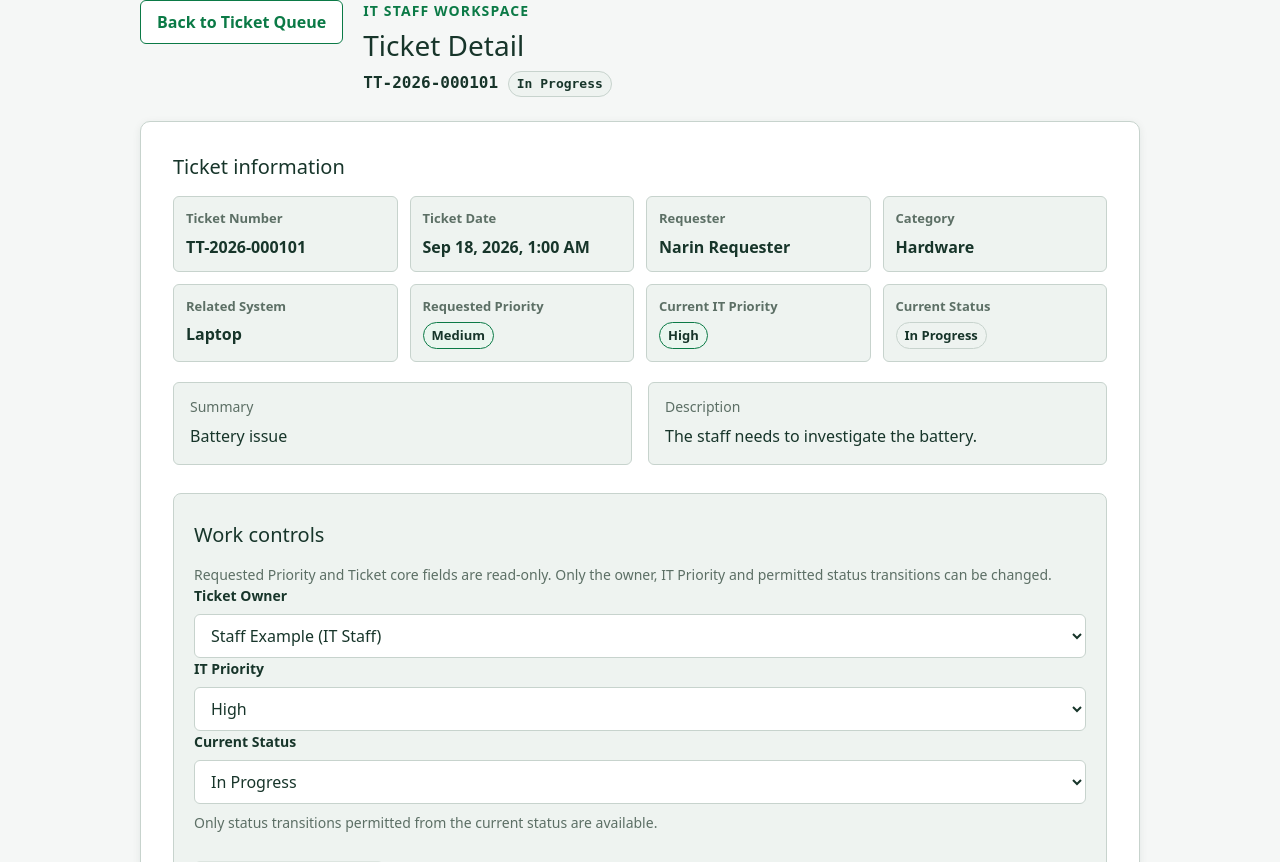
Test: IT Staff Ticket Detail (UI-04) › cancels a formal status dialog without mutating the Ticket
Check: the heading "Ticket Detail" is shown, box [363, 26, 524, 64]
Select "Resolved" in the dropdown labelled "Current Status" at [640, 782], box [194, 760, 1086, 804]
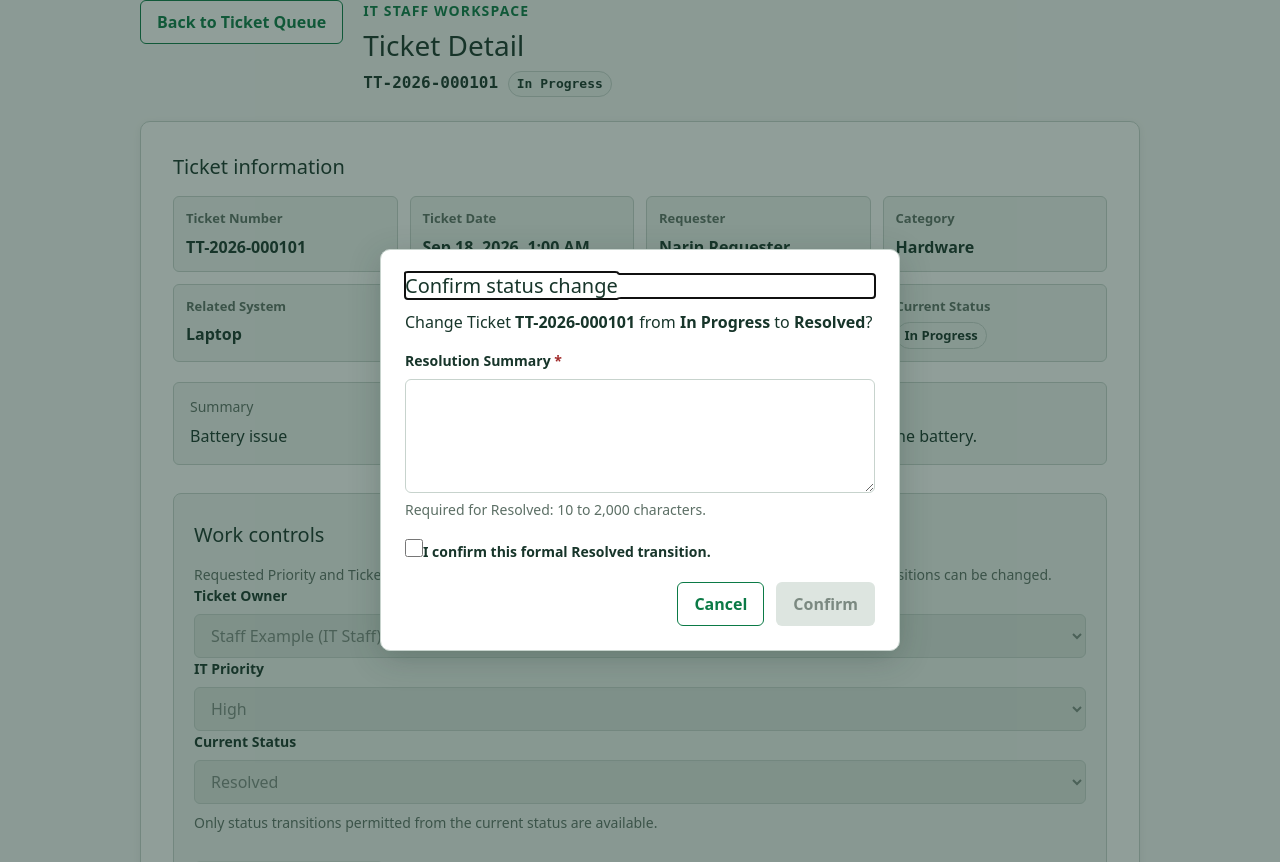
Check: the dialog "Confirm status change" is shown, box [380, 249, 900, 651]
Type "A draft that must not be submitted." into the text box labelled "Resolution Summary *" at [640, 436], box [405, 379, 875, 493]
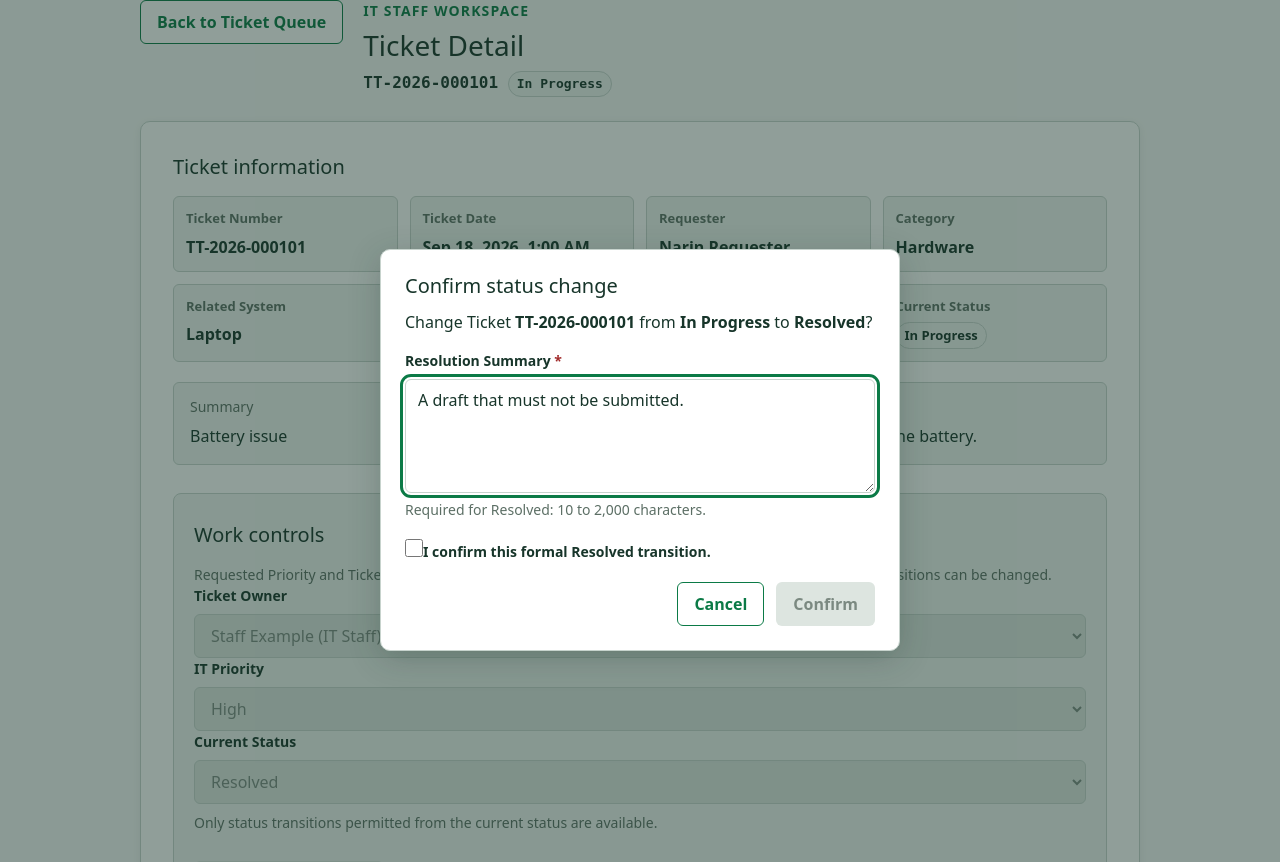
Click the button "Cancel" at [721, 604], box [677, 582, 764, 626]
(page scrolled)
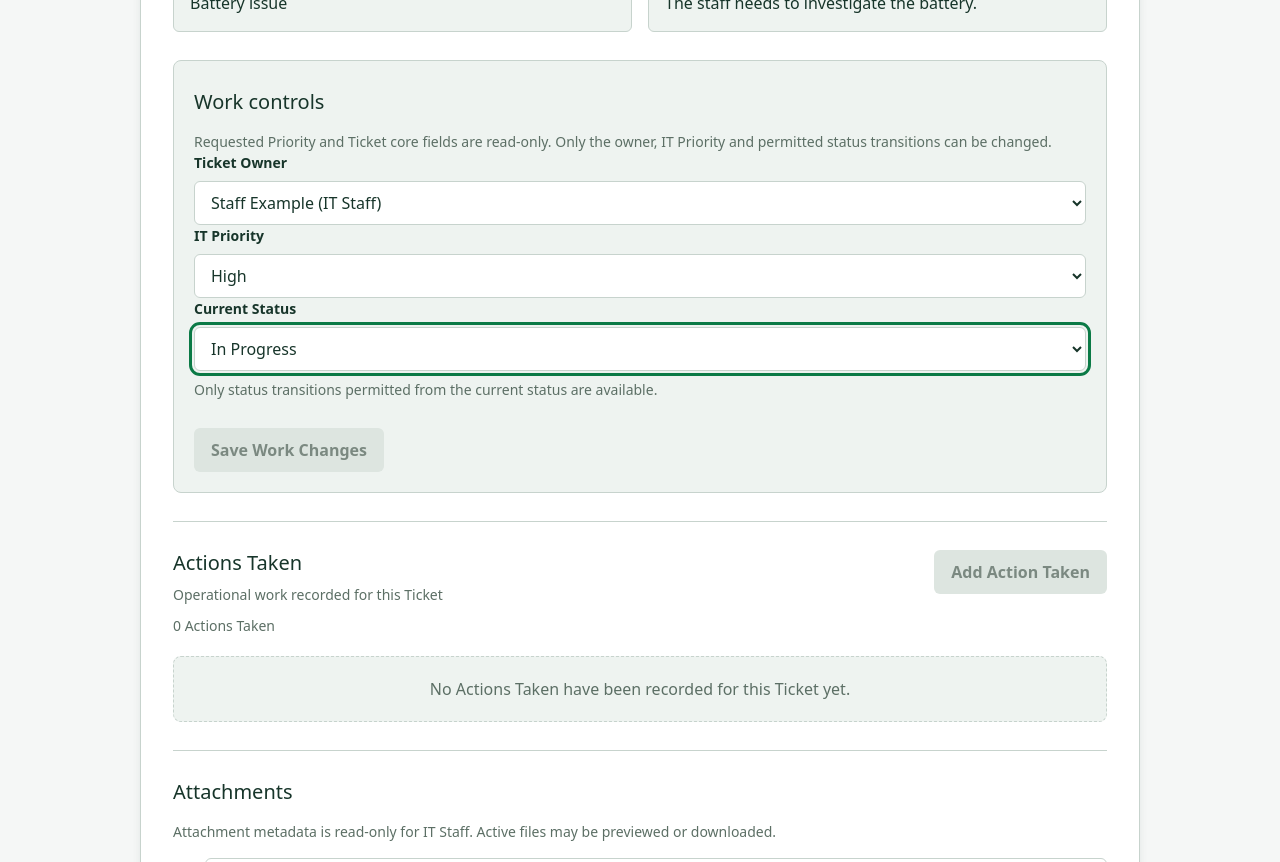
Check: the button "Save Work Changes" is disabled, box [194, 428, 384, 472]
Check: the heading "Confirm status change" is gone
